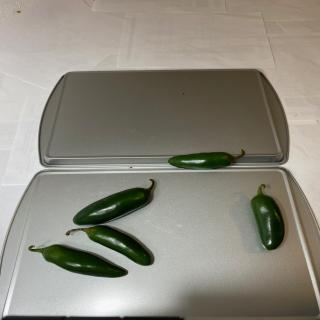Tomato: (72, 179, 156, 226), (65, 225, 152, 266), (28, 244, 128, 278), (250, 183, 285, 250), (168, 149, 245, 170)
